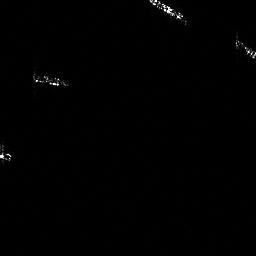ship: (145, 1, 190, 25), (29, 68, 73, 89), (232, 33, 256, 63)
